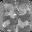people: (18, 18, 29, 29), (4, 2, 14, 12), (18, 4, 27, 15), (5, 10, 16, 19), (2, 20, 10, 28)
